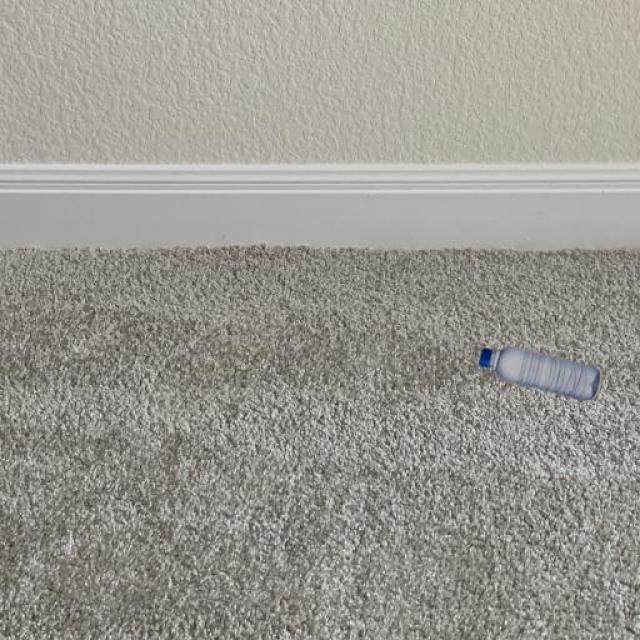bottle: (476, 344, 600, 402)
